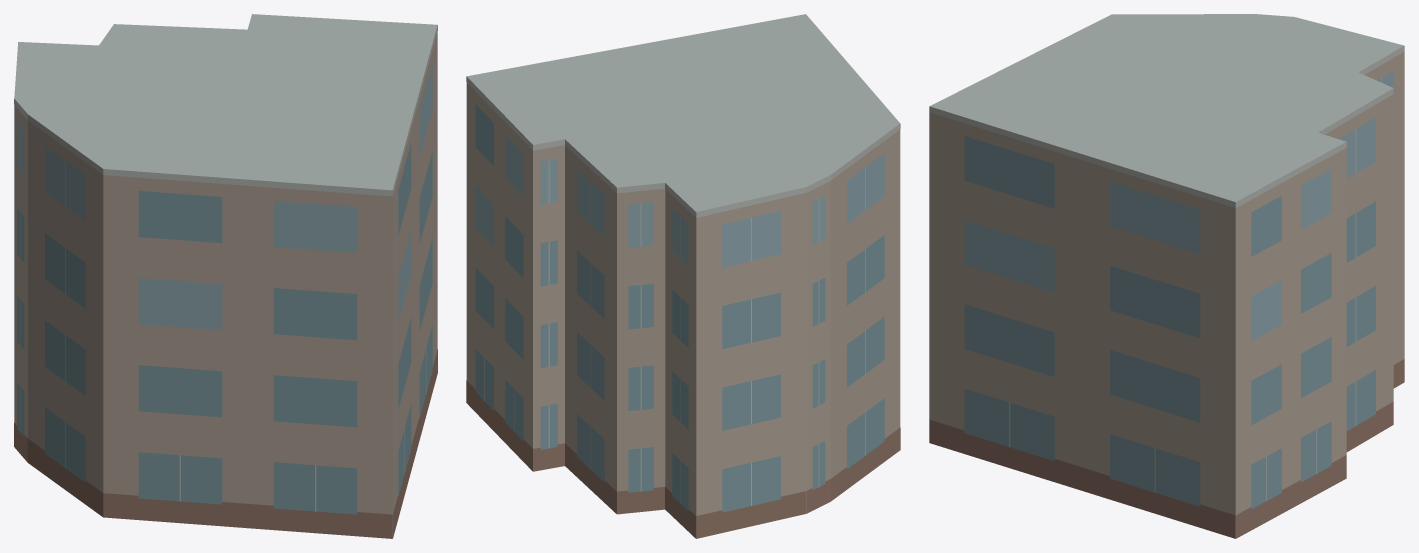
The model's file is survey-upis-32811673.glb.
3 views of the same model, side by side, from view 1: azimuth 30°, elevation 25°; view 2: azimuth 150°, elevation 25°; view 3: azimuth 270°, elevation 25° (orthographic). The views are drawn at different scales.
Visible parts, largest first — view 1: survey-upis-32811673.tmp; view 2: survey-upis-32811673.tmp; view 3: survey-upis-32811673.tmp.
Part boxes in pixels (x1,y1,x2,y2): survey-upis-32811673.tmp: (14,14,437,538); survey-upis-32811673.tmp: (466,14,900,538); survey-upis-32811673.tmp: (929,14,1404,538).
Bounding box in the file's own units: 16.55 × 13.8 × 17.66.
